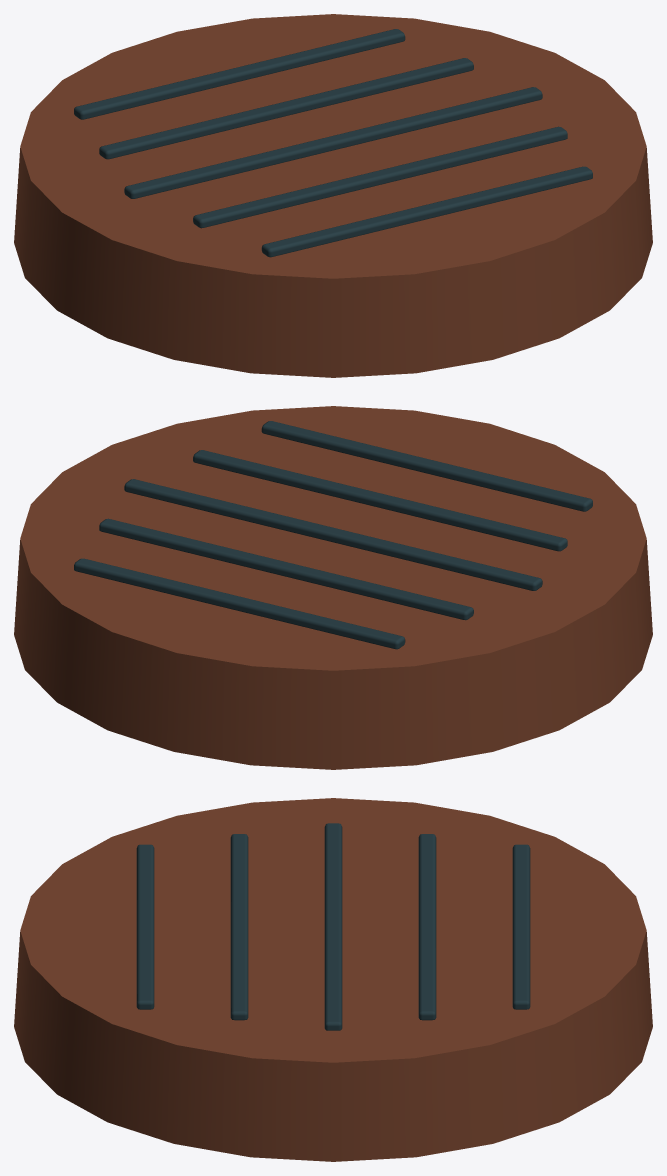
Rendered from patty.glb.
The picture shows the model from 3 angles, top to bottom: view 1: azimuth 30°, elevation 25°; view 2: azimuth 150°, elevation 25°; view 3: azimuth 270°, elevation 25°; orthographic projection.
Parts seen in each view (by area): view 1: patty; view 2: patty; view 3: patty.
Part boxes in pixels (x1,y1,x2,y2): patty: (14,14,652,377); patty: (14,406,652,769); patty: (14,798,652,1161).
Bounding box in the file's own units: 0.51 × 0.092 × 0.51.
